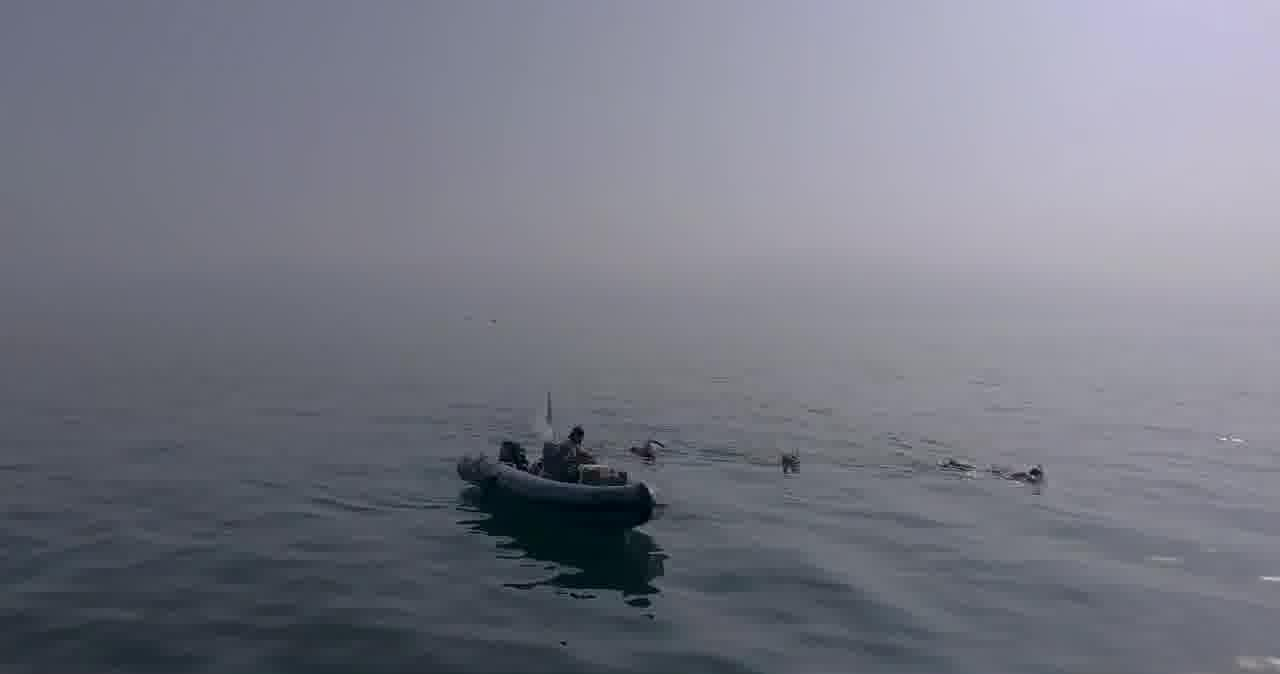human: (979, 449, 1069, 496), (624, 425, 664, 464), (758, 441, 809, 470)
